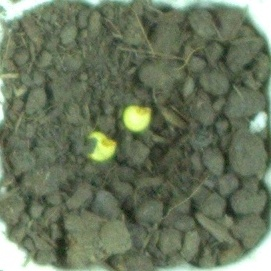pepper seed: (45, 38, 199, 171), (24, 49, 142, 213)
